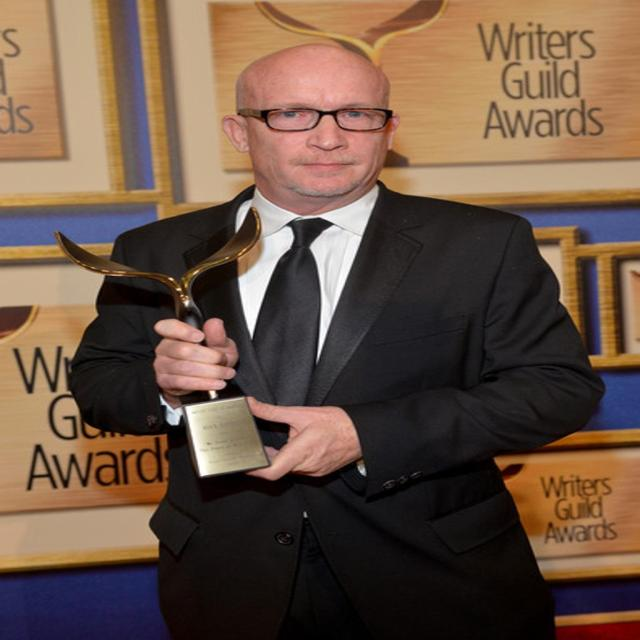Face: (243, 51, 414, 197)
